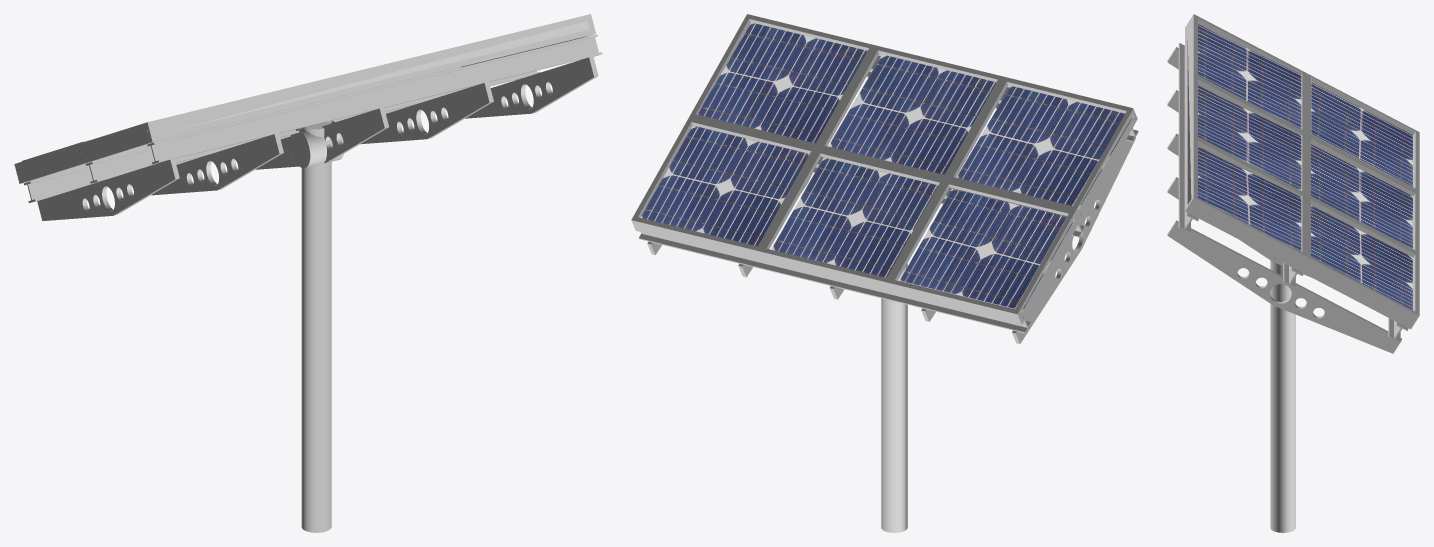
Rendered from solar_panel_2.fbx.
The picture shows the model from 3 angles, left to right: view 1: azimuth 30°, elevation 25°; view 2: azimuth 150°, elevation 25°; view 3: azimuth 270°, elevation 25°; orthographic projection. The views are drawn at different scales.
Visible parts, largest first — view 1: model3:Box001_Metal_0, model3:Cylinder001_Metal_0; view 2: pCube1, model3:Box001_Metal_0, model3:Cylinder001_Metal_0; view 3: pCube1, model3:Box001_Metal_0, model3:Cylinder001_Metal_0.
Boxes of the visible parts, x1,y1,x2,y2 form: model3:Box001_Metal_0: [14, 14, 602, 220]; model3:Cylinder001_Metal_0: [301, 121, 331, 532]; pCube1: [640, 22, 1134, 317]; model3:Box001_Metal_0: [631, 14, 1138, 343]; model3:Cylinder001_Metal_0: [881, 263, 907, 532]; pCube1: [1198, 24, 1412, 309]; model3:Box001_Metal_0: [1167, 14, 1419, 353]; model3:Cylinder001_Metal_0: [1270, 260, 1295, 532].
Bounding box in the file's own units: 1.43 × 1.52 × 0.8261.
Materials: 2 (1 with a texture image).
